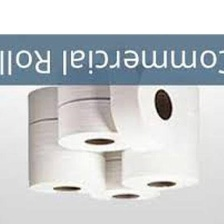tissue: (107, 85, 199, 155), (24, 117, 105, 196), (55, 95, 135, 152), (119, 144, 197, 192), (85, 158, 163, 203), (24, 85, 63, 126)
